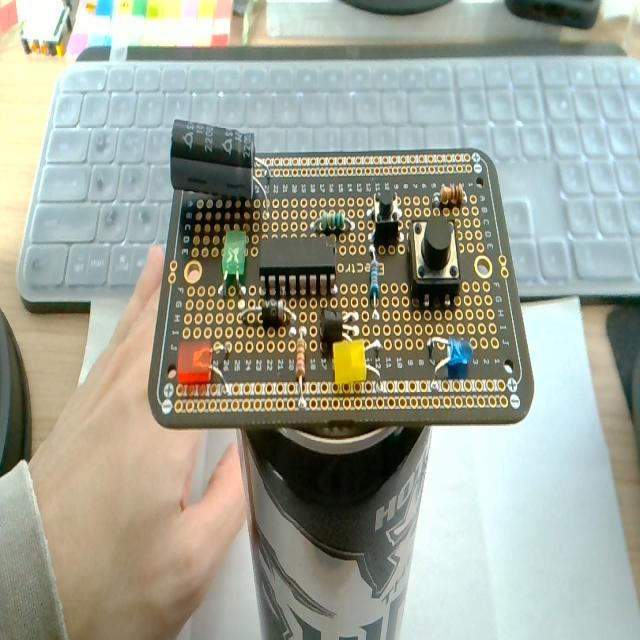Electrolytic capacitor: (165, 109, 284, 224)
IC: (260, 234, 338, 296)
diode: (240, 300, 294, 331)
led: (171, 334, 235, 401), (331, 335, 368, 389), (427, 334, 473, 376), (221, 229, 248, 297)
resistor: (294, 336, 308, 412), (311, 211, 354, 235), (368, 244, 381, 312), (434, 183, 466, 209)
switch: (410, 213, 462, 301), (370, 186, 402, 243)
transistor: (318, 307, 358, 343)
